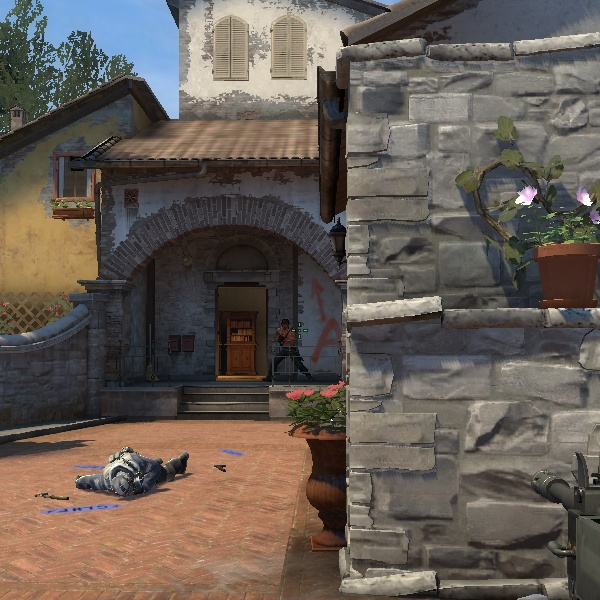t_body: (265, 317, 308, 370)
